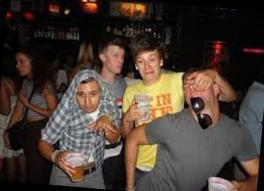Drunk: (183, 76, 213, 104), (136, 54, 160, 80), (78, 84, 101, 110), (106, 46, 125, 74)
